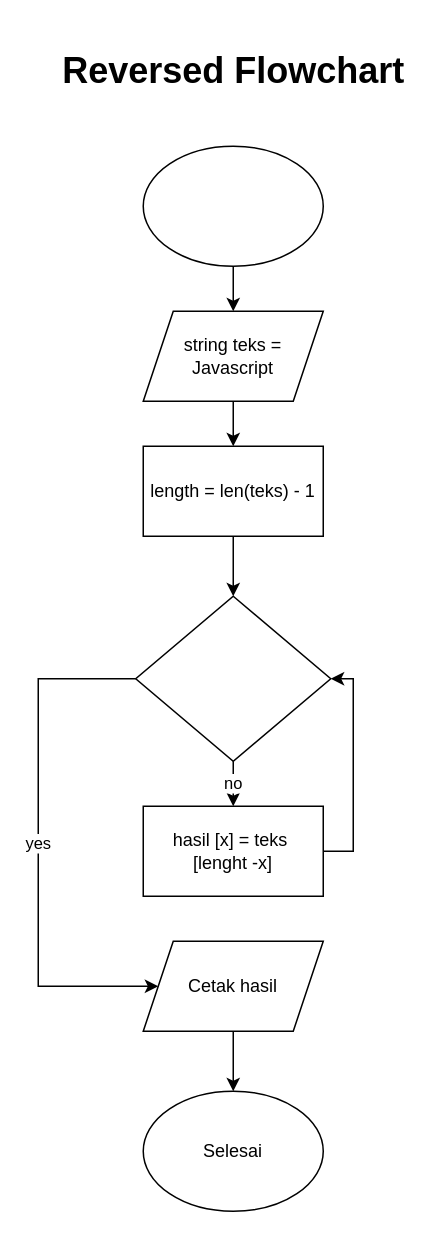
The diagram is 440 pixels wide and 1238 high, and some of its shapes have lost their labels. Each missing label, with the centre of its shape:
for (x= 0; x< lenght ; x++): (232,678)
Mulai: (232,205)
